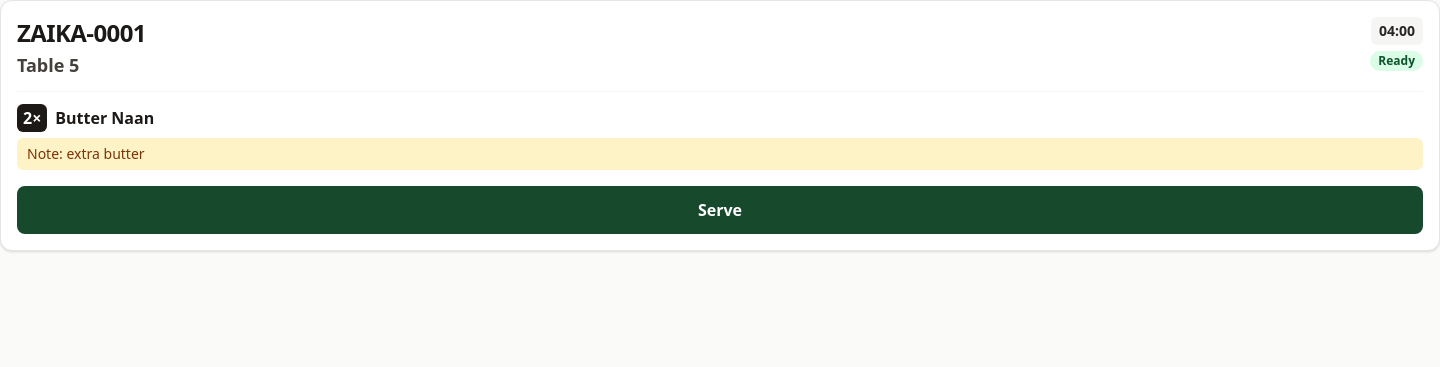
StaffOrderCard + ServeConfirm › shows the error on the card and leaves the order in place when serving fails
This screenshot has width=1440, height=367.
Step 1. Click the button "Serve" → (720, 210), box left=17, top=186, right=1423, bottom=234
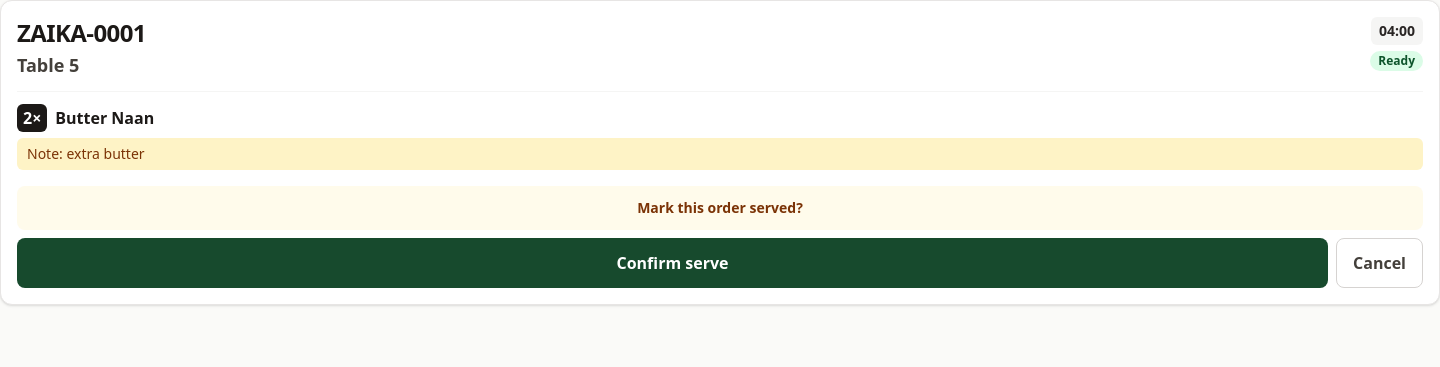
Step 2. Click the button "Confirm serve" → (673, 263), box left=17, top=238, right=1328, bottom=288
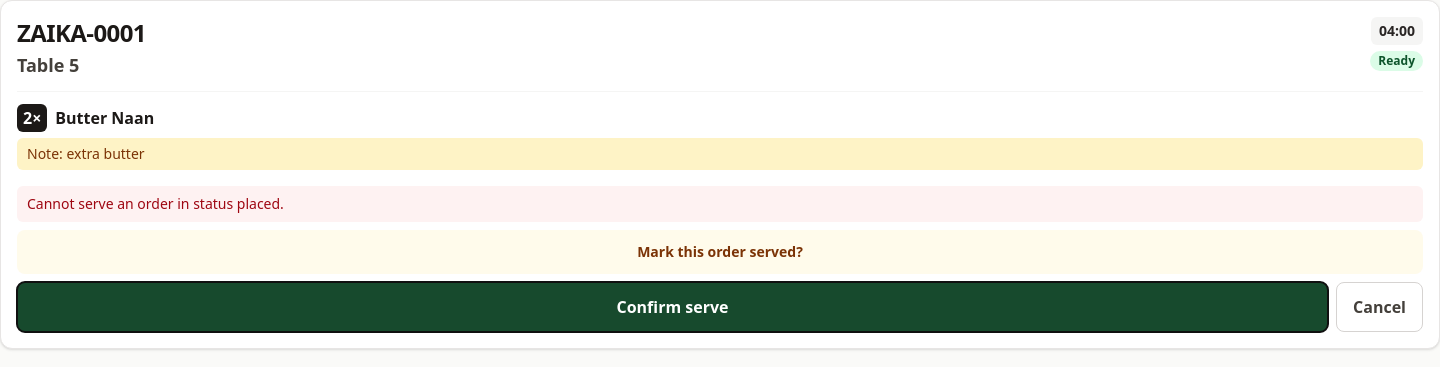
Check: the text "ZAIKA-0001" is shown, box left=17, top=17, right=146, bottom=49
Check: the button "Cancel" is shown, box left=1336, top=282, right=1423, bottom=332
Check: the text "Cannot serve an order in status placed." is shown, box left=17, top=186, right=1423, bottom=222
